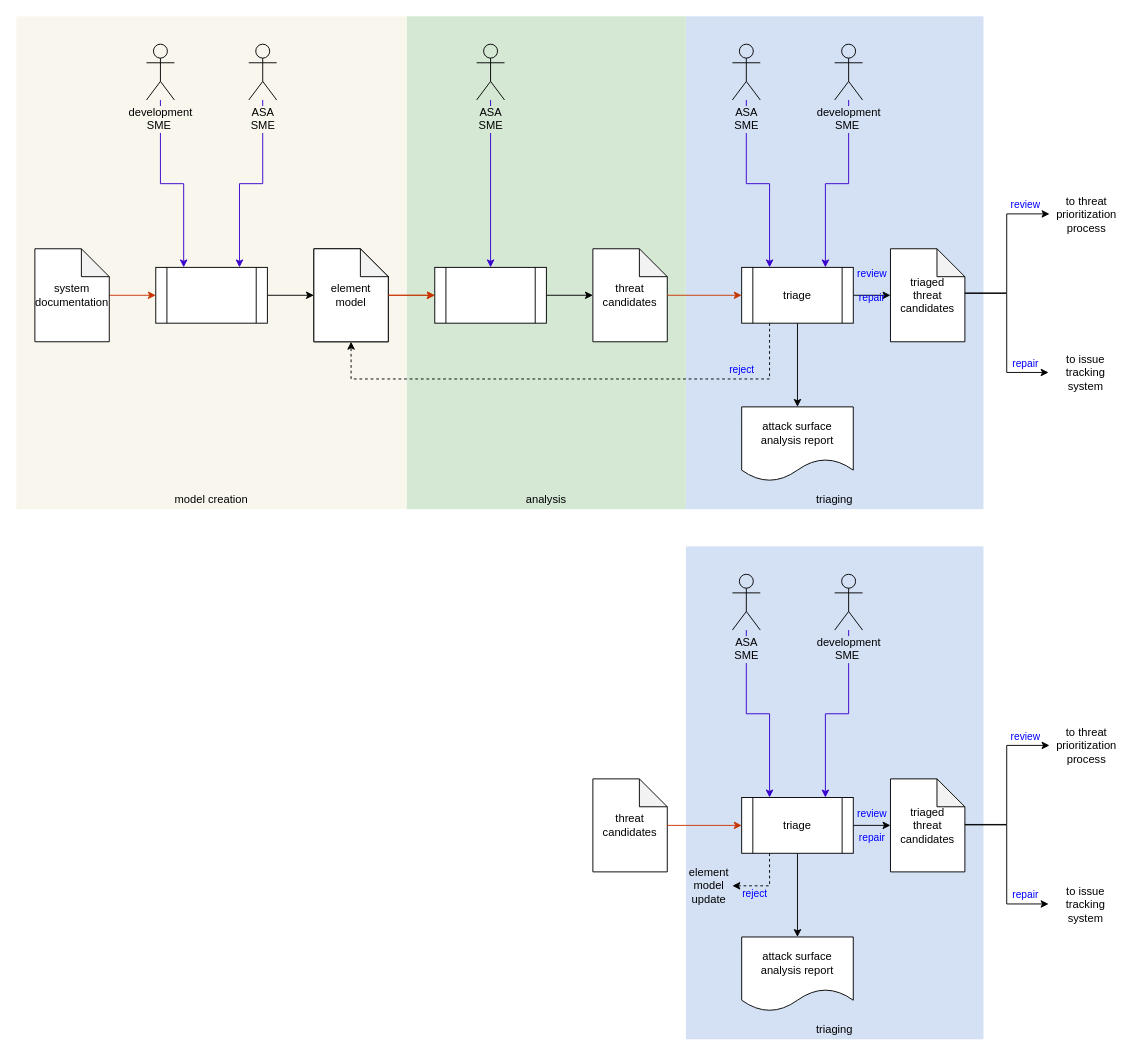
This 1139x1055 diagram has some shape labels left out. The centre of each missing label's shape, as x and y in pixels:
"element model creation" belongs at (211,294).
"surface analysis" belongs at (490,294).
